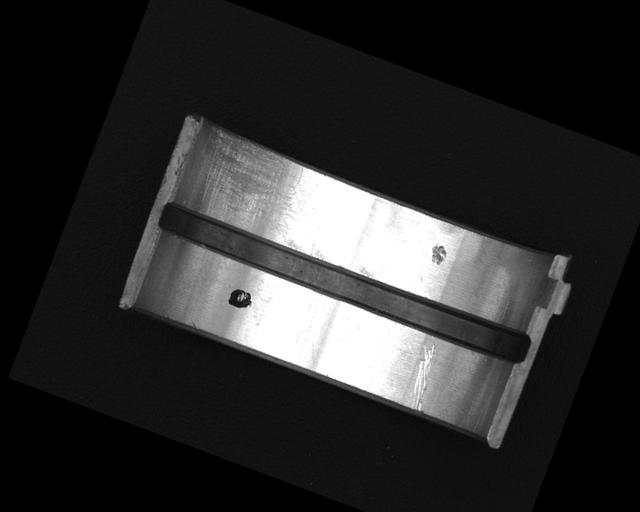blot: (224, 285, 257, 313)
bruise: (425, 240, 452, 269)
gap: (151, 195, 536, 370)
nick: (398, 340, 446, 415)
scratch: (176, 121, 331, 253)
